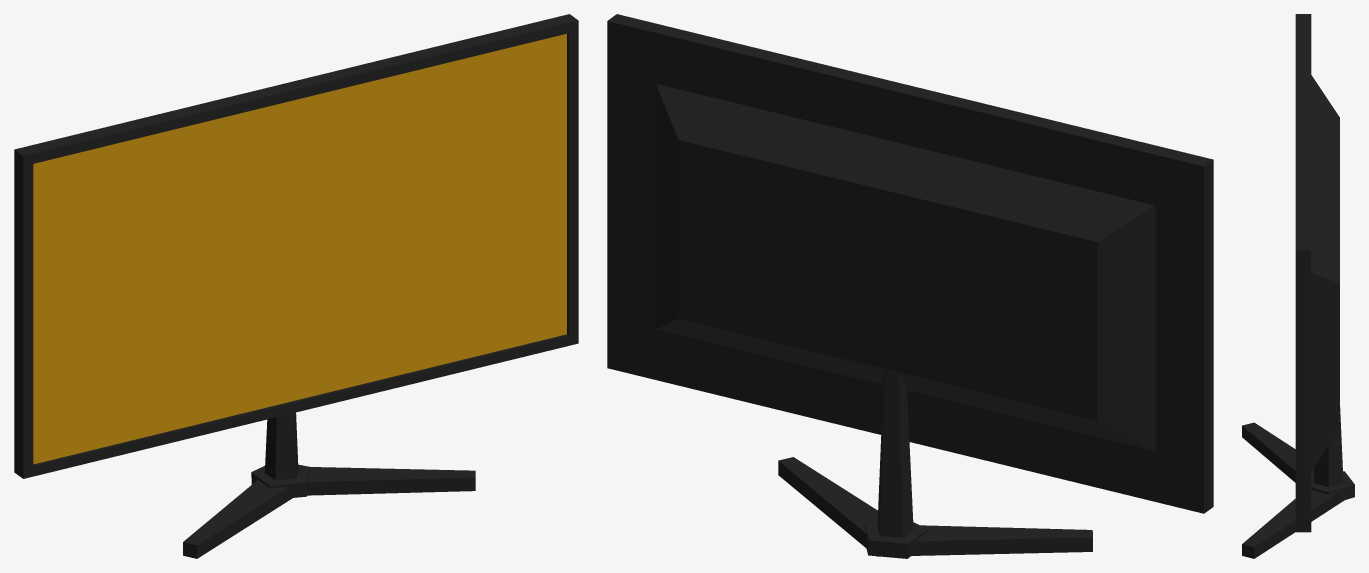
Rendered from SM_monitor_02.fbx.
3 renders of one model, left to right at view 1: azimuth 30°, elevation 25°; view 2: azimuth 150°, elevation 25°; view 3: azimuth 270°, elevation 25°, orthographic. The views are drawn at different scales.
Visible parts, largest first — view 1: Cylinder014; view 2: Cylinder014; view 3: Cylinder014.
Part boxes in pixels (x1,y1,x2,y2): Cylinder014: (14,14,578,558); Cylinder014: (607,14,1213,558); Cylinder014: (1242,14,1354,558).
Bounding box in the file's own units: 35.18 × 25.15 × 7.09.
